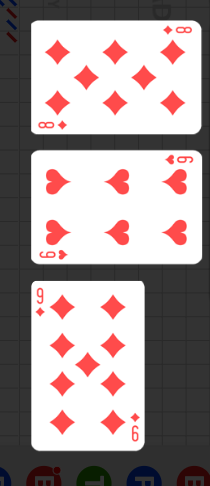8D: (37, 119, 69, 131)
9D: (34, 286, 46, 319), (129, 411, 141, 443)
